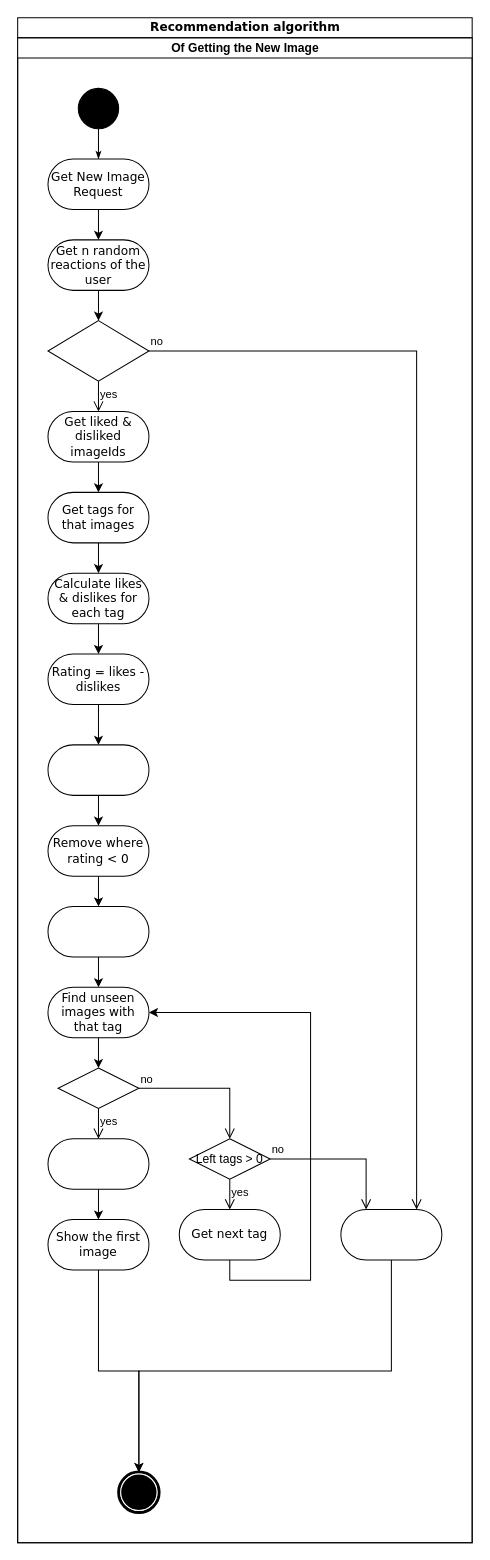
Some shapes in this 490 by 1560 pixel diagram are drawn without their labels. The centre of each missing label's shape, as x and y in pixels:
Get the first tag: pixel 98 931
Images > 0: pixel 98 1087
Order images by descending Id: pixel 98 1163
Order tags by descending rating: pixel 98 769
Reactions > 0: pixel 98 350
Show random image: pixel 391 1234
